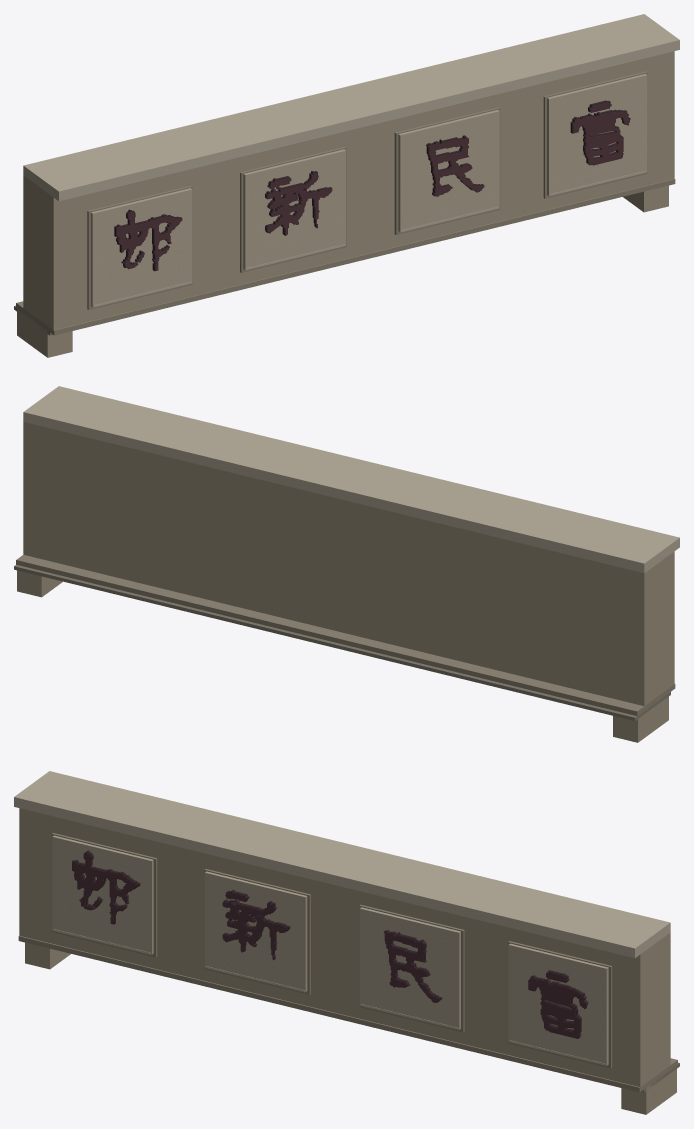
Rendered from jingan-fumin-village-four-sign-panels-web.glb.
3 renders of one model, top to bottom at view 1: azimuth 30°, elevation 25°; view 2: azimuth 150°, elevation 25°; view 3: azimuth 330°, elevation 25°, orthographic.
Visible parts, largest first — view 1: 富民新邨弄口四块字牌与通道过梁; view 2: 富民新邨弄口四块字牌与通道过梁; view 3: 富民新邨弄口四块字牌与通道过梁.
Part boxes in pixels (bbox=[...]): 富民新邨弄口四块字牌与通道过梁: bbox=[14, 14, 679, 357]; 富民新邨弄口四块字牌与通道过梁: bbox=[14, 386, 679, 742]; 富民新邨弄口四块字牌与通道过梁: bbox=[14, 771, 679, 1114].
Size of the model in its own units: 4.99 by 1.34 by 0.625.
